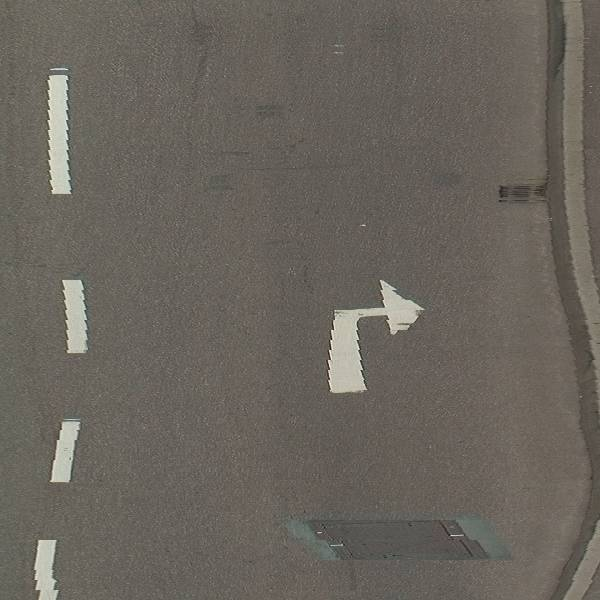road_damage: (272, 508, 525, 570)
